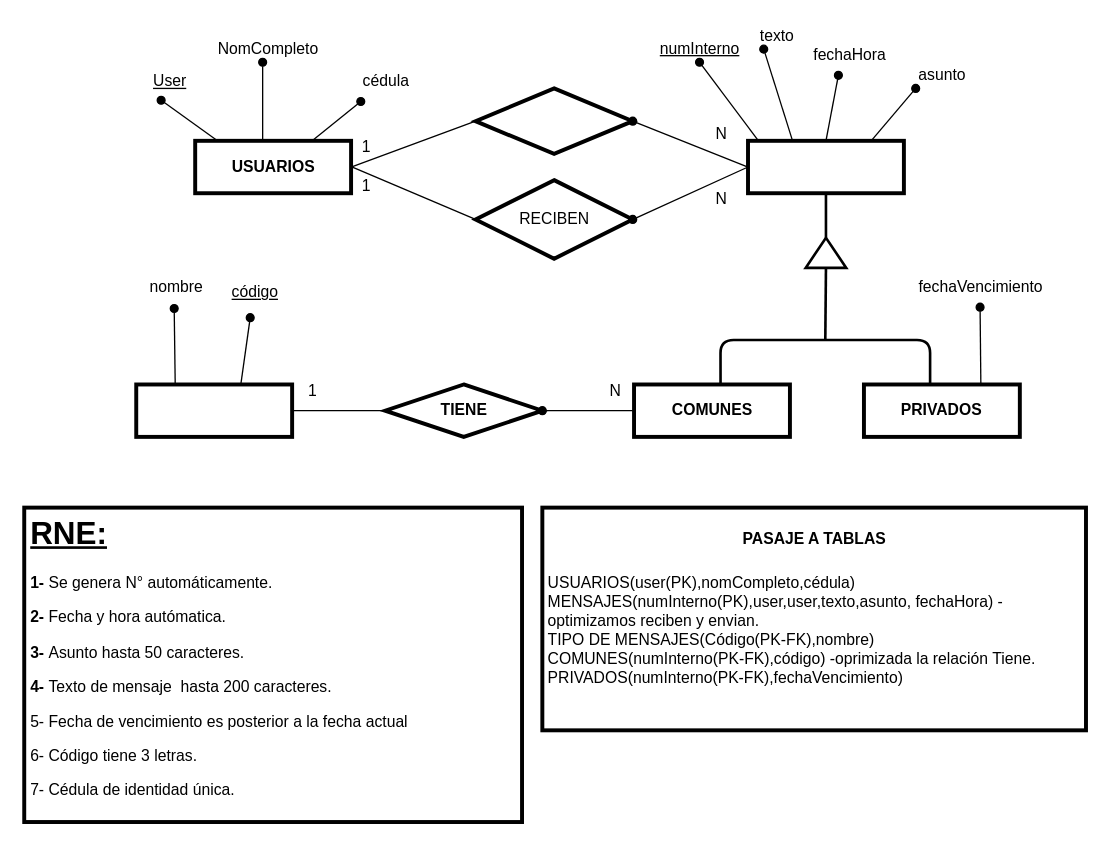
Image size: 1111x846. Some labels were removed from this diagram. The centre of each missing label's shape, as x and y in pixels:
ENVIAN: the point at 553,120
MENSAJES: the point at 825,166
TIPO DE MENSAJES: the point at 213,410
